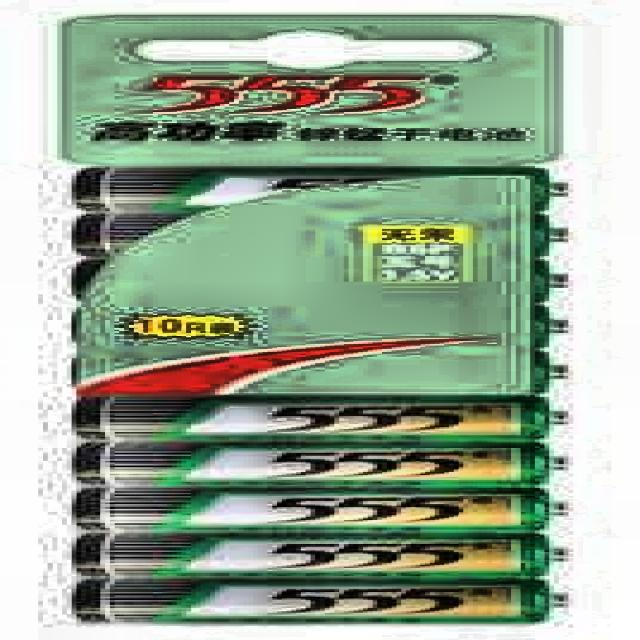Non-Valuable Waste - Batteries: (78, 578, 549, 622), (75, 442, 545, 486), (75, 534, 549, 577), (75, 398, 549, 440), (75, 488, 539, 530)
